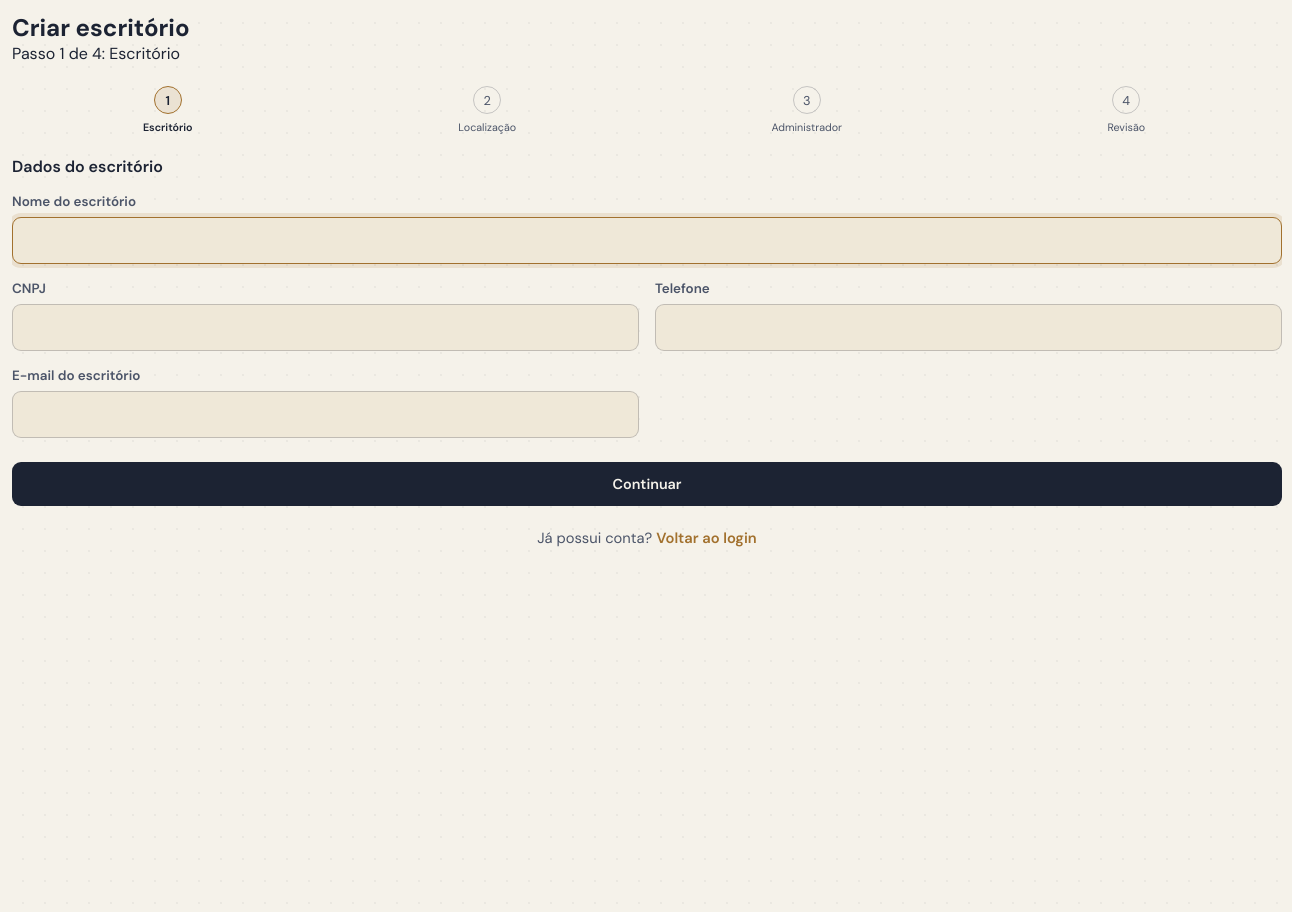
Test: cadastro do escritório preenchido pelo CNPJ › CNPJ não encontrado só avisa; o formulário continua editável
The width and height of the screenshot is (1292, 912).
Type "11444777000161" into the field below "CNPJ" at (326, 328), box [12,304,639,351]
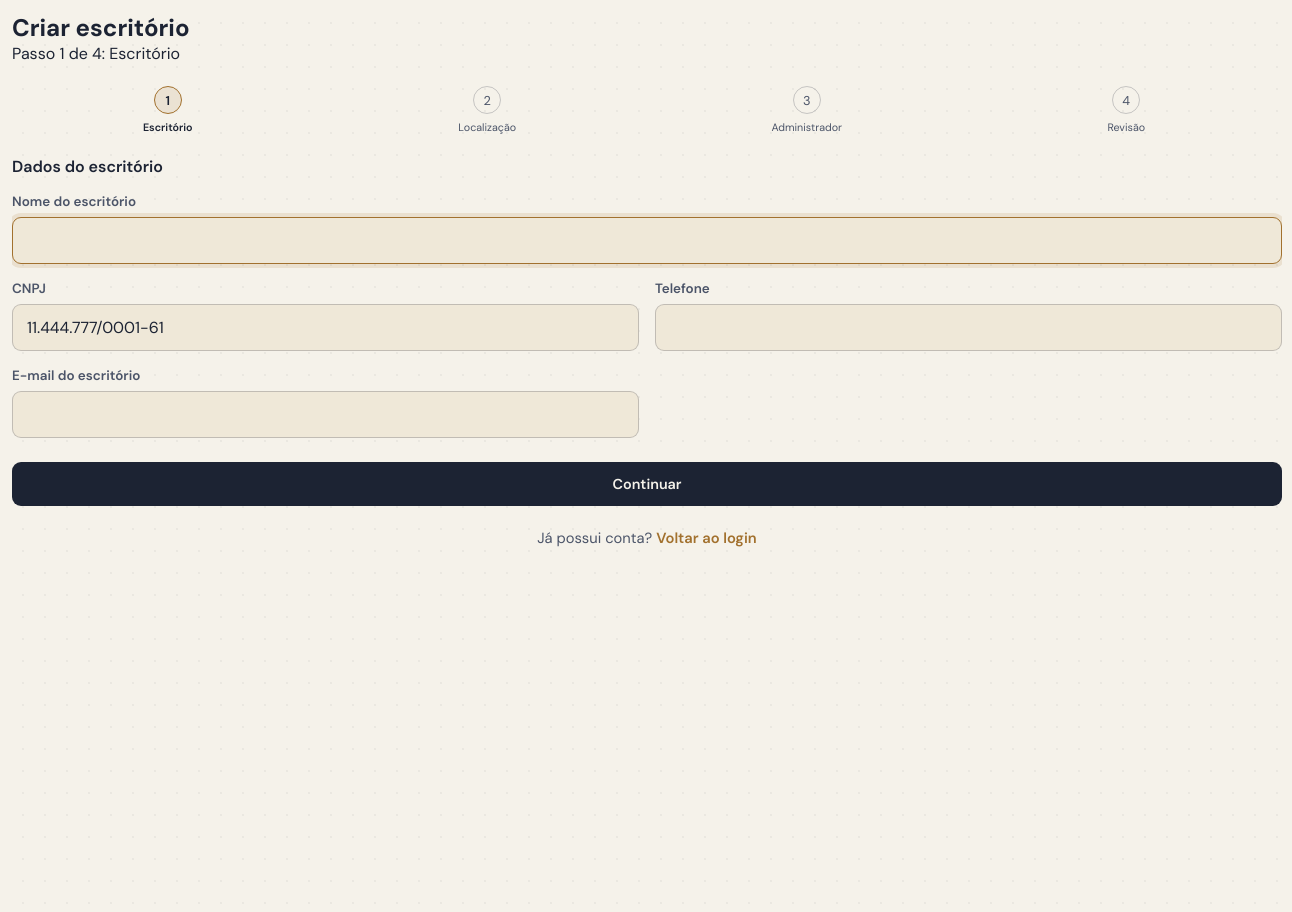
Leave the field below "CNPJ", box [12,304,639,351]
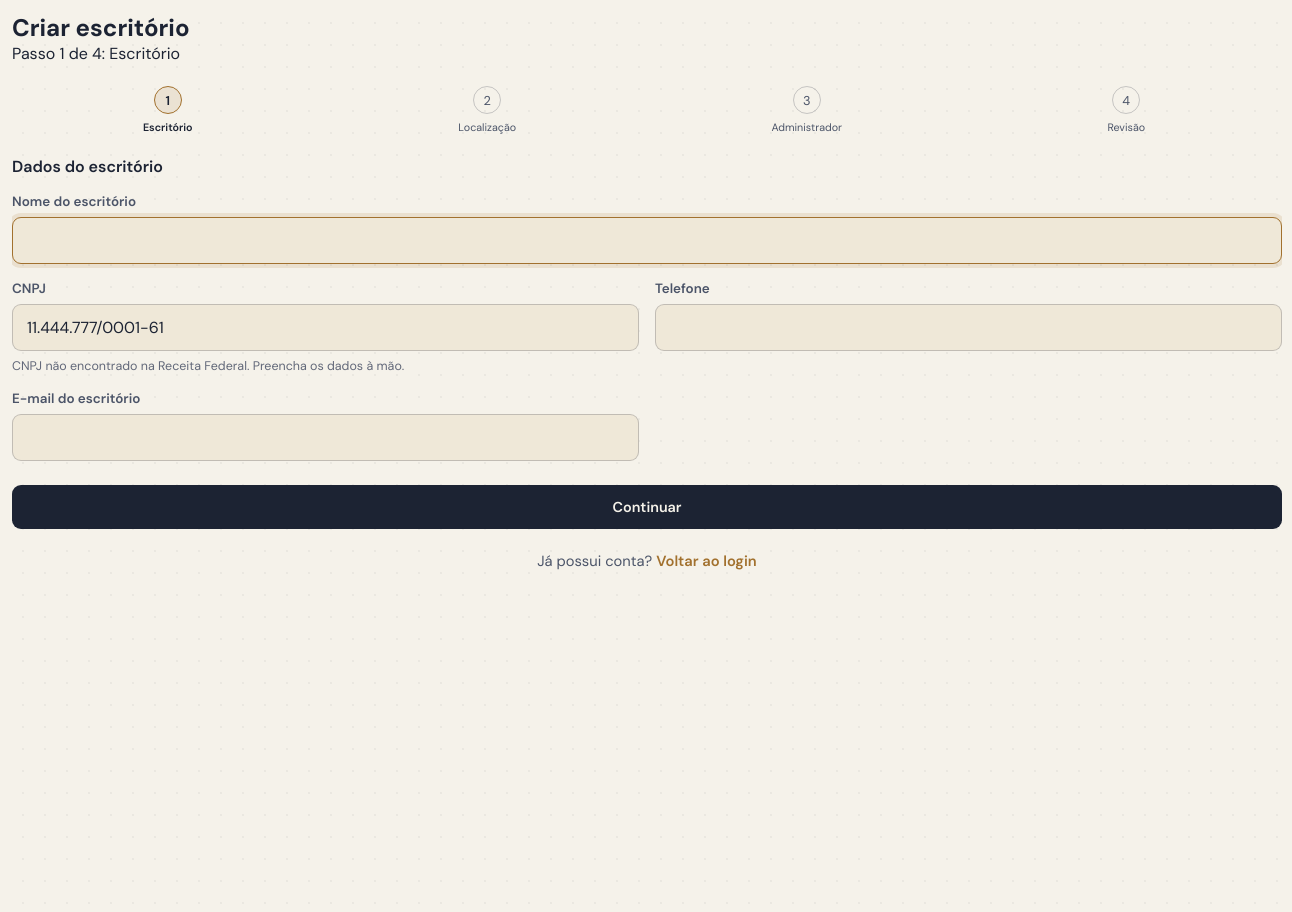
Expected: the field below "Nome do escritório" is empty, [12,217,1282,264]
Expected: the message shows "não encontrado", [12,358,404,374]
